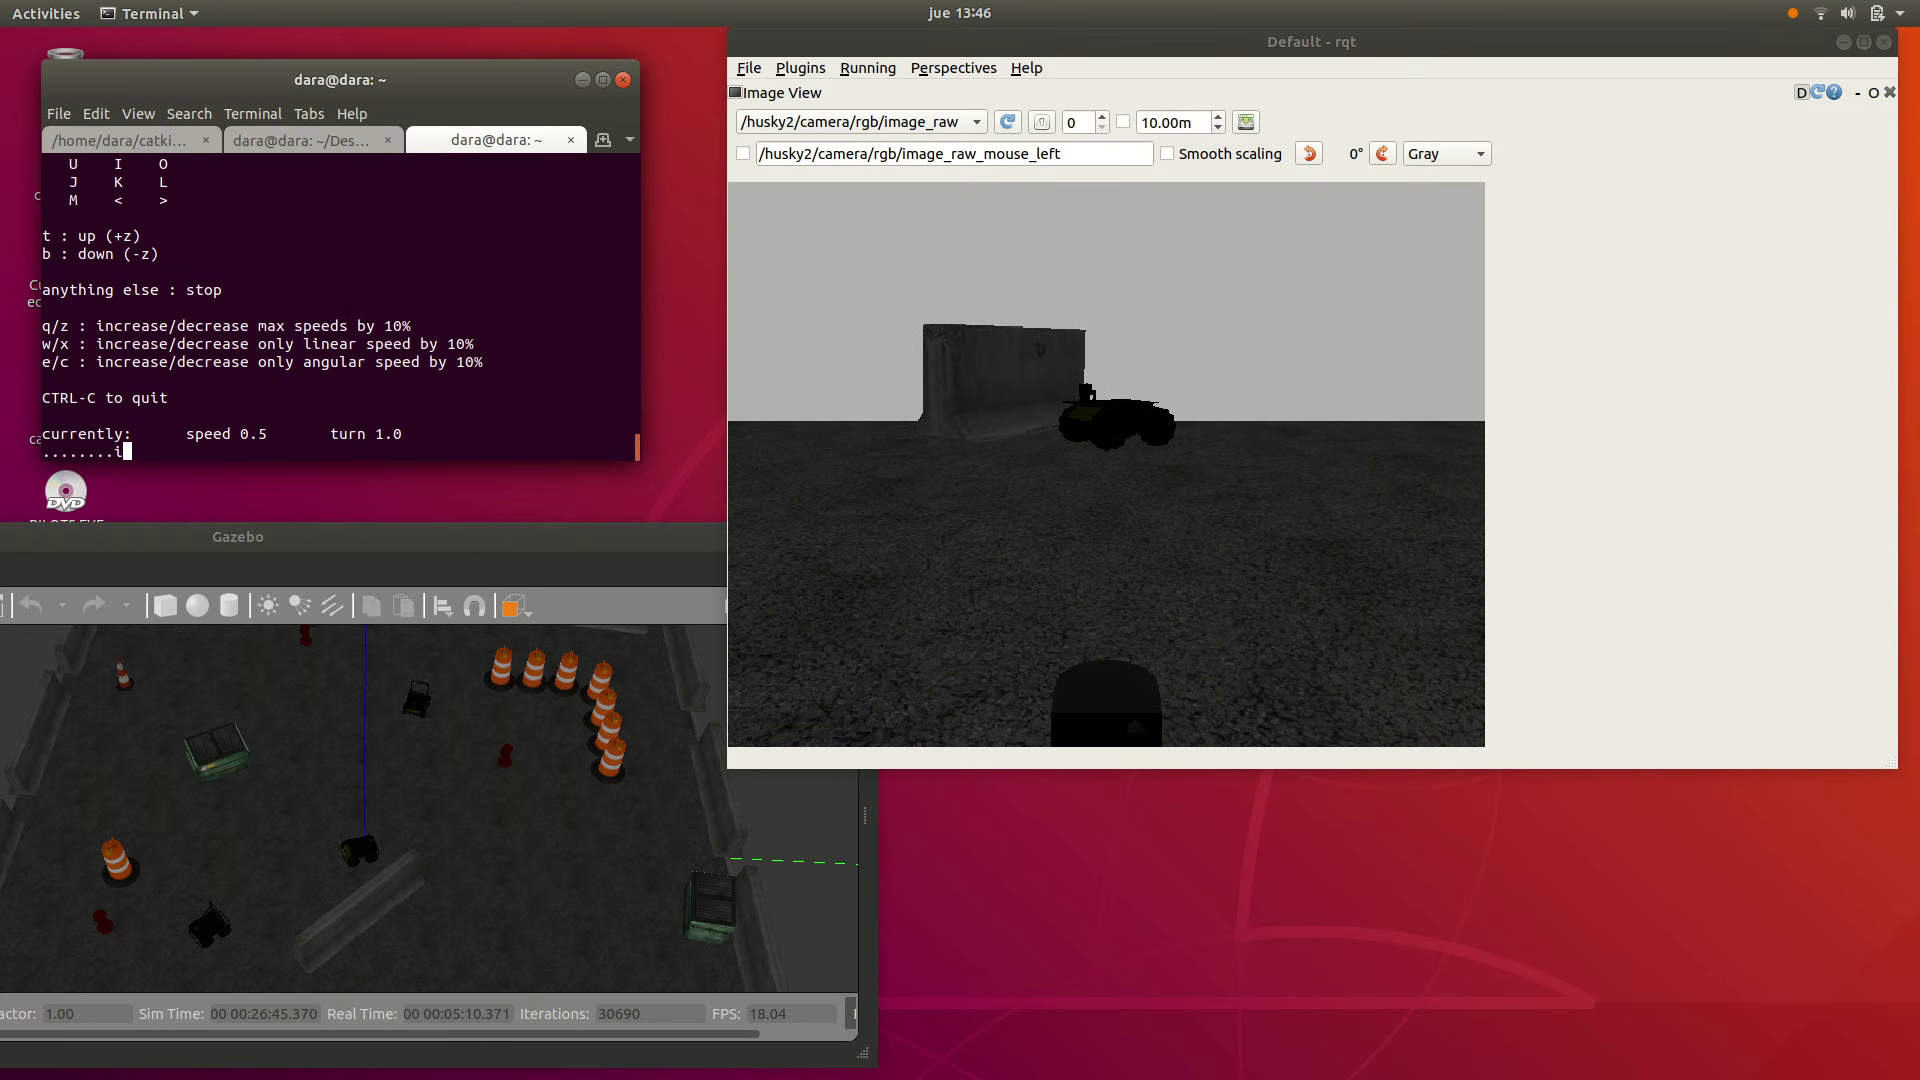husky: (1059, 399, 1176, 450), (188, 910, 232, 948), (340, 835, 379, 867), (403, 691, 431, 718)
